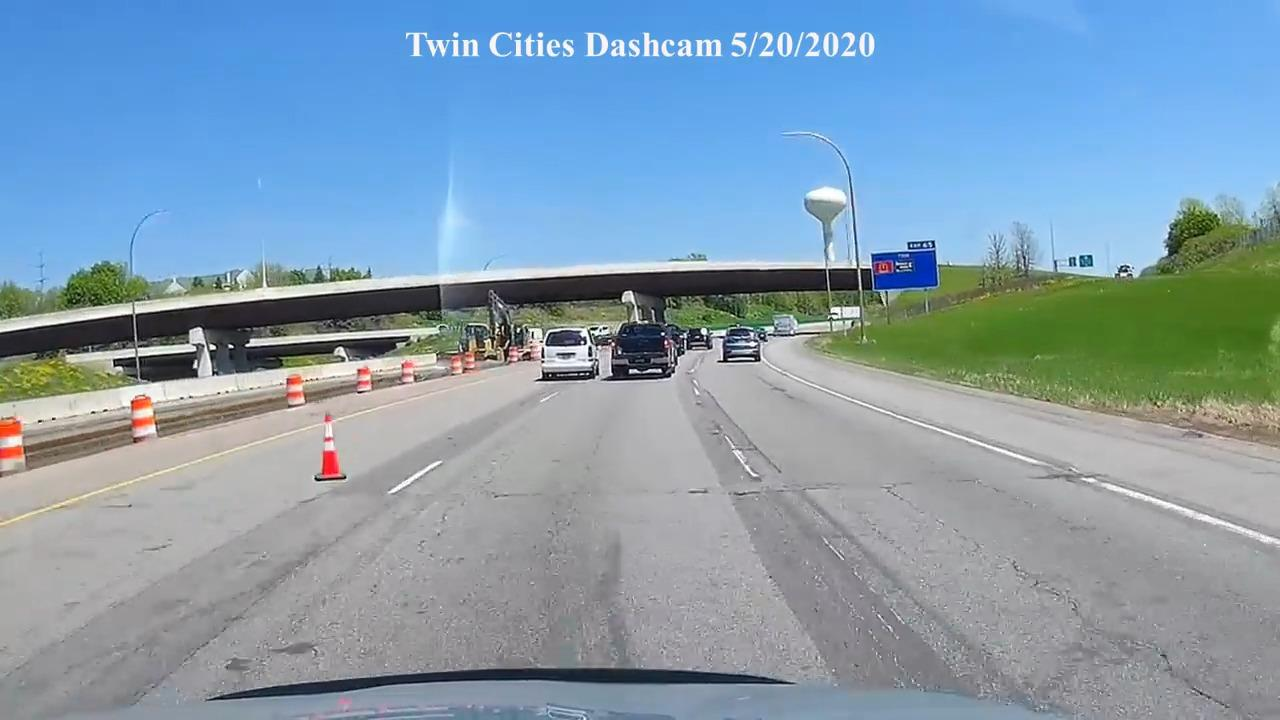car: (540, 327, 599, 381), (723, 326, 762, 363), (773, 315, 798, 336)
traffic cone: (314, 413, 347, 482), (130, 395, 157, 443), (284, 373, 306, 408), (355, 366, 373, 394), (463, 352, 477, 373)
